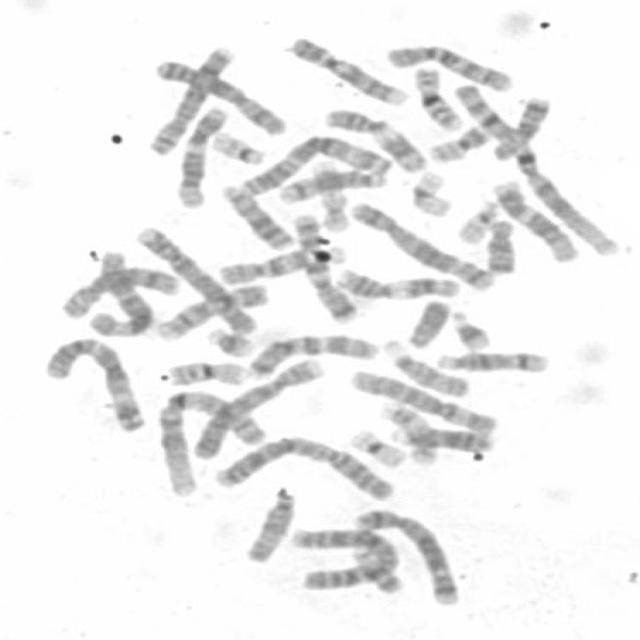A1: (442, 75, 625, 259), (153, 387, 267, 500)
A2: (205, 431, 398, 502), (284, 522, 404, 596)
A3: (35, 332, 148, 434), (233, 129, 393, 199)
B4: (130, 221, 264, 338), (184, 351, 324, 462)
B5: (343, 197, 498, 292), (346, 502, 462, 607)
C10: (382, 39, 517, 94), (213, 240, 349, 287)
C11: (318, 103, 429, 174), (331, 264, 464, 301)
C12: (488, 175, 584, 264), (169, 102, 229, 210)
C6: (344, 363, 502, 436), (85, 249, 157, 337)
C7: (287, 207, 363, 325), (242, 327, 382, 379)
C8: (144, 40, 236, 158), (54, 260, 181, 320)
C9: (283, 30, 411, 106), (148, 278, 270, 341)
D13: (216, 179, 298, 251), (386, 423, 498, 452)
D14: (274, 167, 389, 204), (434, 345, 555, 375)
D15: (378, 334, 474, 398), (239, 481, 298, 564)
E16: (407, 61, 465, 130), (161, 355, 247, 387)
E17: (376, 398, 442, 467), (305, 156, 353, 232)
E18: (486, 91, 555, 162), (481, 215, 518, 276)
F19: (344, 424, 410, 469), (404, 166, 455, 218)
F20: (422, 120, 494, 164), (352, 544, 407, 596)
G21: (445, 304, 495, 352), (200, 322, 258, 358)
G22: (451, 194, 503, 246), (206, 126, 268, 166)
X: (147, 53, 290, 137)
Y: (401, 294, 454, 350)
